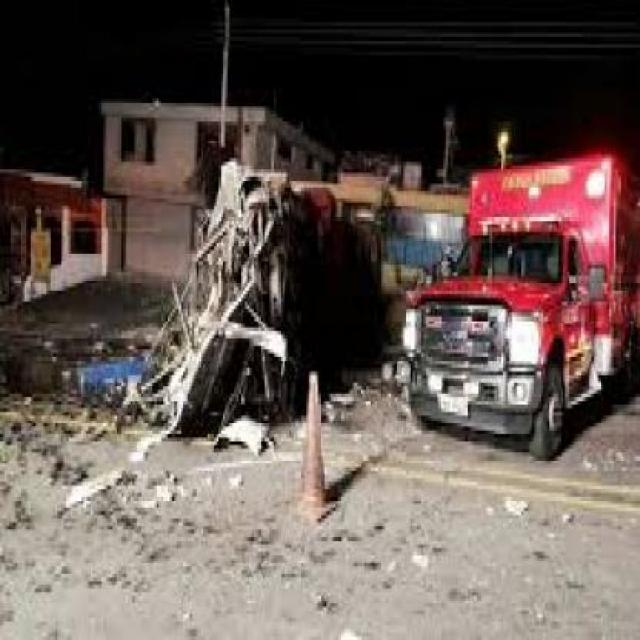accident: (70, 146, 367, 460)
